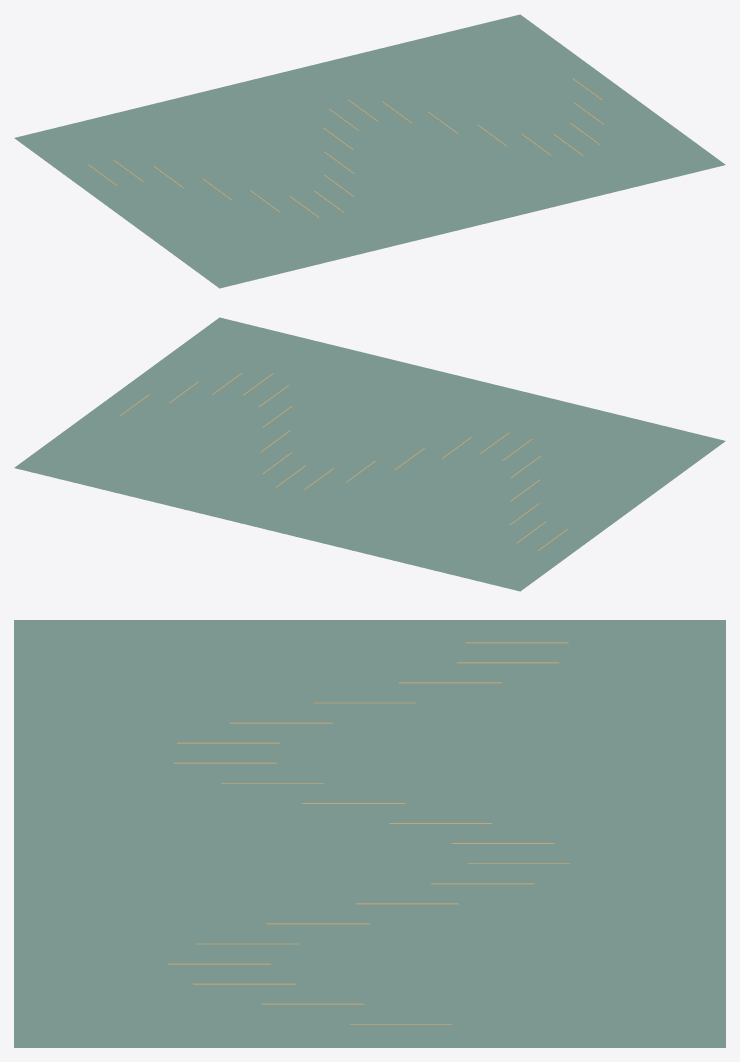
File: 255_L118_L18_LayerReference.glb
3 renders of one model, top to bottom at view 1: azimuth 30°, elevation 25°; view 2: azimuth 150°, elevation 25°; view 3: azimuth 270°, elevation 25°, orthographic. The views are drawn at different scales.
Visible parts, largest first — view 1: 0000__PSMAT__dielectric; view 2: 0000__PSMAT__dielectric; view 3: 0000__PSMAT__dielectric.
Boxes of the visible parts, <box> form: 0000__PSMAT__dielectric: <box>14,14,725,288</box>; 0000__PSMAT__dielectric: <box>14,317,725,591</box>; 0000__PSMAT__dielectric: <box>14,620,725,1047</box>.
Bounding box in the file's own units: 0.472 × 0.000479 × 0.332.
